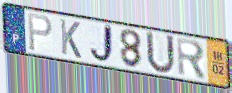8: (118, 28, 144, 70)
J: (88, 22, 116, 66)
K: (58, 17, 83, 61)
P: (27, 12, 55, 53)
R: (175, 35, 208, 82)
U: (144, 29, 178, 76)
